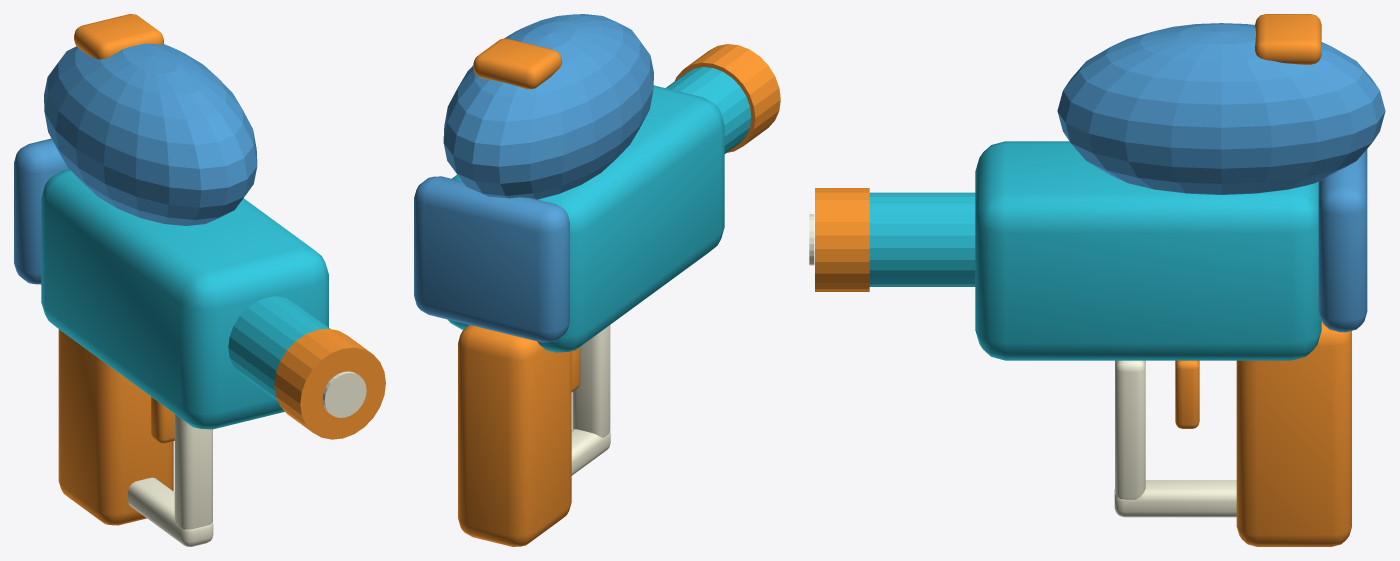
File: water-pistol.glb
3 views of the same model, side by side, from view 1: azimuth 30°, elevation 25°; view 2: azimuth 150°, elevation 25°; view 3: azimuth 270°, elevation 25° (orthographic). The views are drawn at different scales.
Parts seen in each view (by area): view 1: Compact rounded body, Oval water reservoir, Palm centred pistol grip, Orange nozzle, Cyan barrel, Rear body cap, Trigger guard front, Reservoir filler cap, Trigger guard lower, Nozzle aperture, Trigger; view 2: Compact rounded body, Oval water reservoir, Palm centred pistol grip, Rear body cap, Orange nozzle, Trigger guard front, Reservoir filler cap, Cyan barrel, Trigger guard lower; view 3: Compact rounded body, Oval water reservoir, Palm centred pistol grip, Cyan barrel, Rear body cap, Orange nozzle, Trigger guard front, Trigger guard lower, Reservoir filler cap, Trigger.
Boxes of the visible parts, x1,y1,x2,y2 form: Compact rounded body: (41,169,328,429); Oval water reservoir: (44,43,257,225); Palm centred pistol grip: (58,329,173,525); Orange nozzle: (274,328,385,439); Cyan barrel: (228,296,330,401); Rear body cap: (14,138,68,284); Trigger guard front: (174,414,212,529); Reservoir filler cap: (74,14,163,59); Trigger guard lower: (128,477,213,546); Nozzle aperture: (322,371,366,417); Trigger: (151,397,174,443); Compact rounded body: (447,85,724,352); Oval water reservoir: (443,14,653,199); Palm centred pistol grip: (458,325,571,546); Rear body cap: (414,176,569,342); Orange nozzle: (675,44,780,152); Trigger guard front: (572,325,610,437); Reservoir filler cap: (473,38,561,89); Cyan barrel: (666,67,751,153); Trigger guard lower: (571,429,610,475); Compact rounded body: (975,141,1321,360); Oval water reservoir: (1057,23,1385,194); Palm centred pistol grip: (1236,321,1351,546); Cyan barrel: (869,192,975,286); Rear body cap: (1318,149,1367,332); Orange nozzle: (815,188,869,291); Trigger guard front: (1115,360,1145,499); Trigger guard lower: (1114,480,1236,517); Reservoir filler cap: (1255,14,1321,64); Trigger: (1175,360,1199,428).
Size of the model in its own units: 0.15 by 0.4605 by 0.474.
